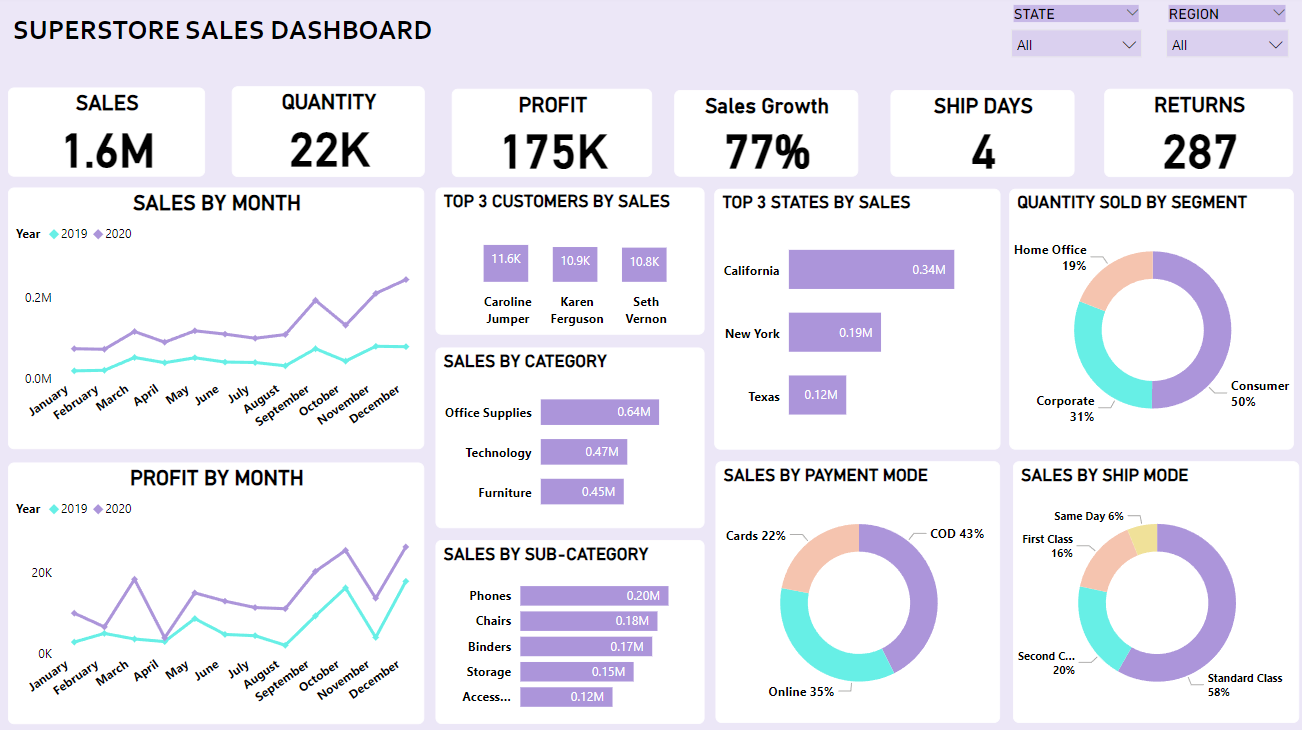

What the dashboard file says about the page in this screenshot:
{"tool":"powerbi","page":{"name":"Key Analysis","canvas":[1280,720],"ordinal":0},"visuals":[{"type":"card","title":"SHIP DAYS","fields":{"Values":["Sheet1.Delivery Days"]},"box":[872.5,92.5,180,85],"z":0},{"type":"card","title":"PROFIT","fields":{"Values":["Sheet1.Profit"]},"box":[443.8,91.2,196.2,86.2],"z":1000},{"type":"card","title":"QUANTITY","fields":{"Values":["Sheet1.Quantity"]},"box":[228.8,88.8,188.8,88.8],"z":2000},{"type":"card","title":"SALES","fields":{"Values":["Sheet1.Sales"]},"box":[10,90,192.5,87.5],"z":3000},{"type":"card","title":"RETURNS","fields":{"Values":["Sheet1.Returns"]},"box":[1082.5,91.2,185,86.2],"z":4000},{"type":"barChart","title":"SALES BY CATEGORY","fields":{"Category":["Sheet1.Category"],"Y":["Sheet1.Sales"]},"box":[428.6,344.3,262.9,177.1],"z":5000},{"type":"barChart","title":"SALES BY SUB-CATEGORY","fields":{"Category":["Sheet1.Sub-Category"],"Y":["Sheet1.Sales"]},"box":[428.3,533.2,263,179.8],"z":6000},{"type":"donutChart","title":"SALES BY PAYMENT MODE","fields":{"Category":["Sheet1.Payment Mode"],"Y":["Sheet1.Sales"]},"box":[702.1,456,278.7,255.8],"z":7000},{"type":"donutChart","title":"QUANTITY SOLD BY SEGMENT","fields":{"Y":["Sheet1.Quantity"],"Category":["Sheet1.Segment"]},"box":[988.8,190,278.8,255],"z":8000},{"type":"donutChart","title":"SALES BY SHIP MODE","fields":{"Y":["Sheet1.Sales"],"Category":["Sheet1.Ship Mode"]},"box":[992.9,456,279.9,255.8],"z":9000},{"type":"barChart","title":"TOP 3 STATES BY SALES","fields":{"Category":["Sheet1.State"],"Y":["Sheet1.Sales"]},"box":[701.2,190,280,255],"z":10000},{"type":"columnChart","title":"TOP 3 CUSTOMERS BY SALES","fields":{"Category":["Sheet1.Customer Name"],"Y":["Sheet1.Sales"]},"box":[428.6,188.6,262.9,144.3],"z":11000},{"type":"stackedAreaChart","title":"SALES BY MONTH","fields":{"Category":["Sheet1.Order Date.Variation.Date Hierarchy.Month"],"Y":["Sheet1.Sales"],"Series":["Sheet1.Order Date.Variation.Date Hierarchy.Year"]},"box":[10,188.6,407.1,255.7],"z":12000},{"type":"stackedAreaChart","title":"PROFIT BY MONTH","fields":{"Category":["Sheet1.Order Date.Variation.Date Hierarchy.Month"],"Y":["Sheet1.Profit"],"Series":["Sheet1.Order Date.Variation.Date Hierarchy.Year"]},"box":[10,457,407,256],"z":13000},{"type":"textbox","box":[10,11.7,590,66.7],"z":14000},{"type":"slicer","title":" STATES","fields":{"Values":["Sheet1.State"]},"box":[980.9,5.5,148.2,58.2],"z":15000},{"type":"slicer","title":"REGION","fields":{"Values":["Sheet1.Region"]},"box":[1132.5,5,140,73.8],"z":16000},{"type":"card","title":"Sales Growth","fields":{"Values":["Sheet1.SalesGrowth"]},"box":[661.2,92.5,180,85],"z":17000}]}

Visuals, with their boxes in screenshot pixels (x1, y1, x2, y2), scaled from the page's 1280x720 canvas onto the 1302x730 screenshot:
"SHIP DAYS" card: left=887, top=94, right=1071, bottom=180
"PROFIT" card: left=451, top=92, right=651, bottom=180
"QUANTITY" card: left=233, top=90, right=425, bottom=180
"SALES" card: left=10, top=91, right=206, bottom=180
"RETURNS" card: left=1101, top=92, right=1289, bottom=180
"SALES BY CATEGORY" barChart: left=436, top=349, right=703, bottom=529
"SALES BY SUB-CATEGORY" barChart: left=436, top=541, right=703, bottom=723
"SALES BY PAYMENT MODE" donutChart: left=714, top=462, right=998, bottom=722
"QUANTITY SOLD BY SEGMENT" donutChart: left=1006, top=193, right=1289, bottom=451
"SALES BY SHIP MODE" donutChart: left=1010, top=462, right=1295, bottom=722
"TOP 3 STATES BY SALES" barChart: left=713, top=193, right=998, bottom=451
"TOP 3 CUSTOMERS BY SALES" columnChart: left=436, top=191, right=703, bottom=338
"SALES BY MONTH" stackedAreaChart: left=10, top=191, right=424, bottom=450
"PROFIT BY MONTH" stackedAreaChart: left=10, top=463, right=424, bottom=723
textbox: left=10, top=12, right=610, bottom=79
" STATES" slicer: left=998, top=6, right=1149, bottom=65
"REGION" slicer: left=1152, top=5, right=1294, bottom=80
"Sales Growth" card: left=673, top=94, right=856, bottom=180
